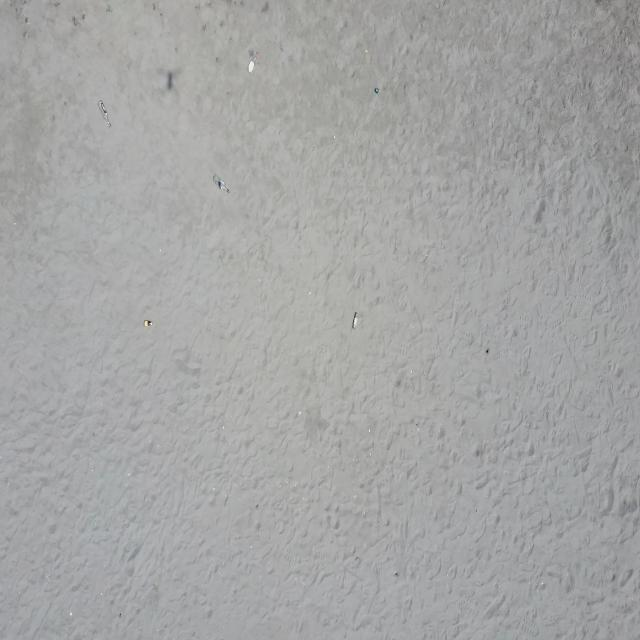glass: (213, 175, 230, 192), (247, 52, 259, 74), (99, 102, 110, 125), (352, 312, 359, 329), (374, 88, 382, 95), (144, 320, 152, 326)
